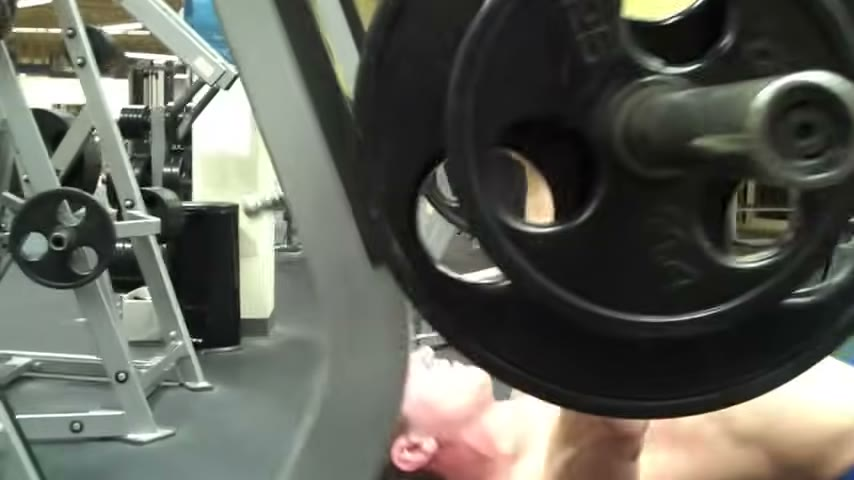barbell_plate_side: (372, 3, 531, 460), (752, 2, 854, 426)
